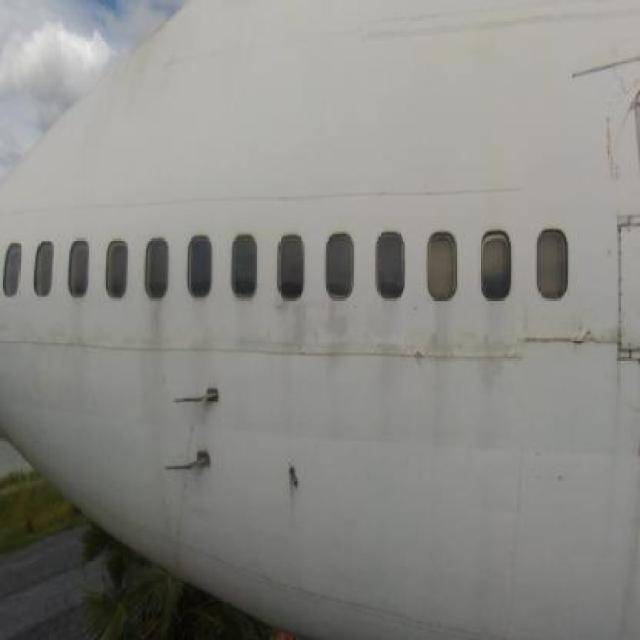Missing-Rivet: (611, 204, 640, 390)
Scartch: (567, 29, 640, 88), (517, 332, 611, 365), (590, 116, 628, 190)
